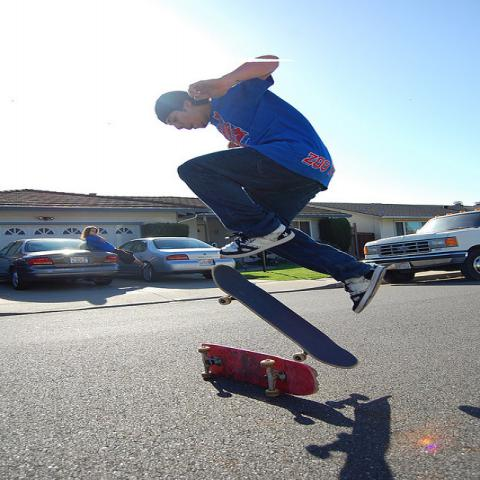car: (0, 237, 119, 292), (120, 234, 232, 280)
truck: (364, 207, 479, 285)
